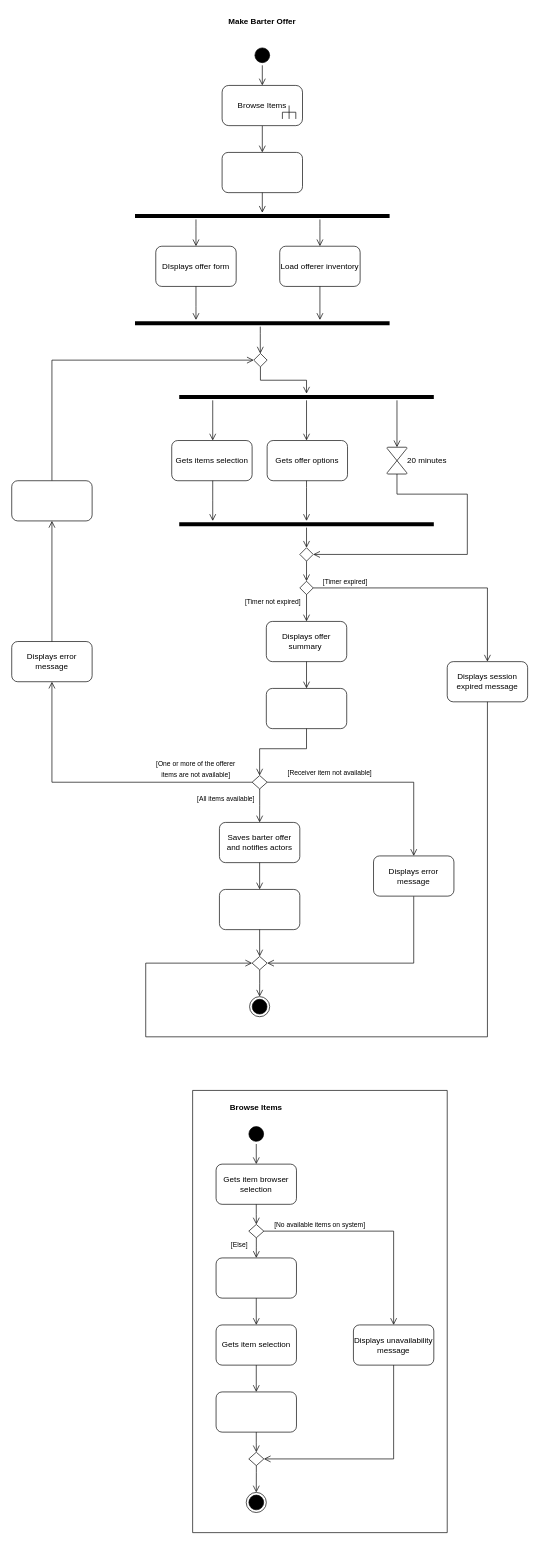
Image size: 539x1544. Some labels were removed from this diagram. Each missing label, with the box of its shape:
Clears unaivalable items selection: (11, 480, 92, 521)
Displays available items: (215, 1257, 296, 1298)
Displays item details: (215, 1391, 296, 1432)
Displays saved offer: (219, 889, 300, 930)
Gets confirmation: (266, 688, 347, 729)
Gets offer requests: (221, 152, 303, 193)
